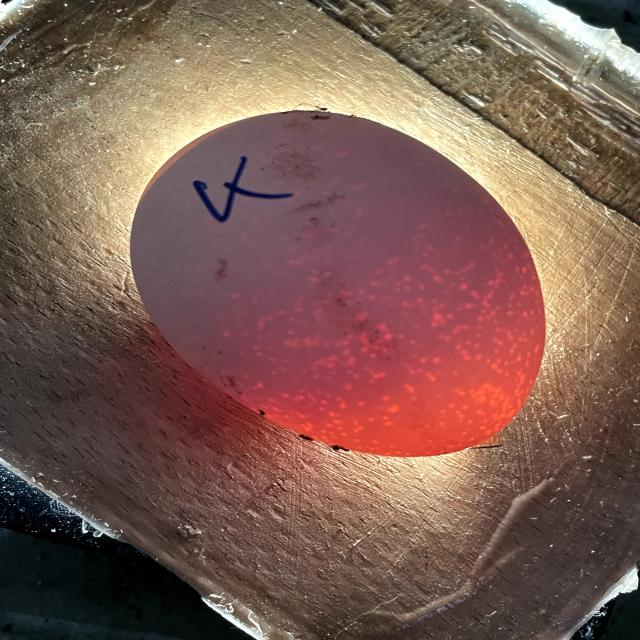fertile: (132, 111, 545, 456)
